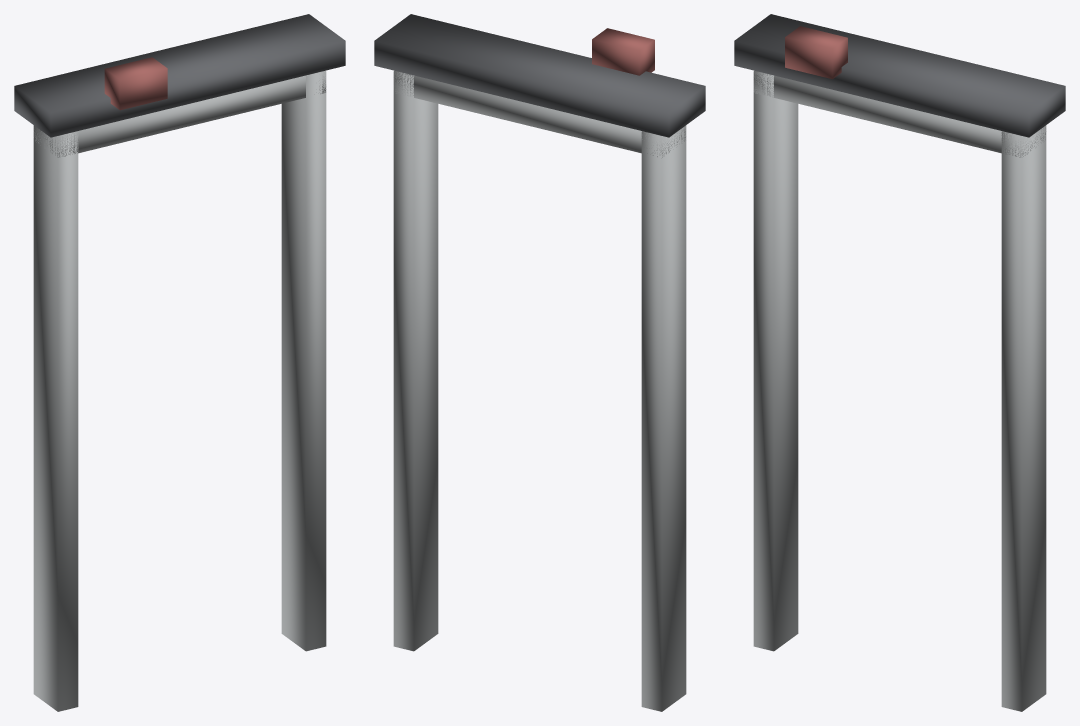
The model's file is doorway_fire_rated_w86_h200_d16.glb.
The picture shows the model from 3 angles, left to right: view 1: azimuth 30°, elevation 25°; view 2: azimuth 150°, elevation 25°; view 3: azimuth 330°, elevation 25°; orthographic projection.
Visible parts, largest first — view 1: world; view 2: world; view 3: world.
Boxes of the visible parts, x1,y1,x2,y2 form: world: (14, 14, 345, 711); world: (374, 14, 705, 711); world: (734, 14, 1065, 711).
Bounding box in the file's own units: 1.11 × 2.28 × 0.3.
